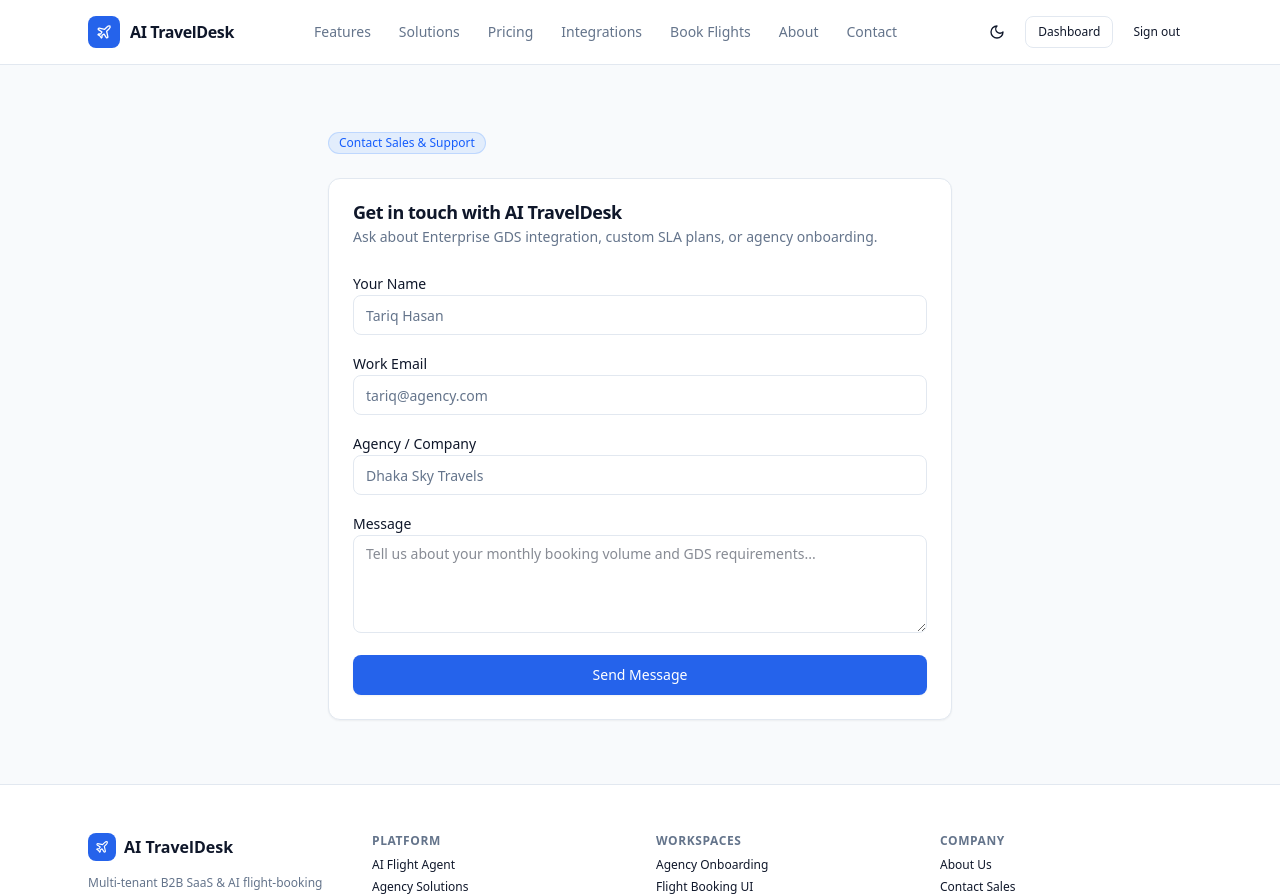
Test: Phase 3 Frontend Experience › validates contact form inputs
Click the button "Send Message".
click(640, 675)  # box [353,655,927,695]
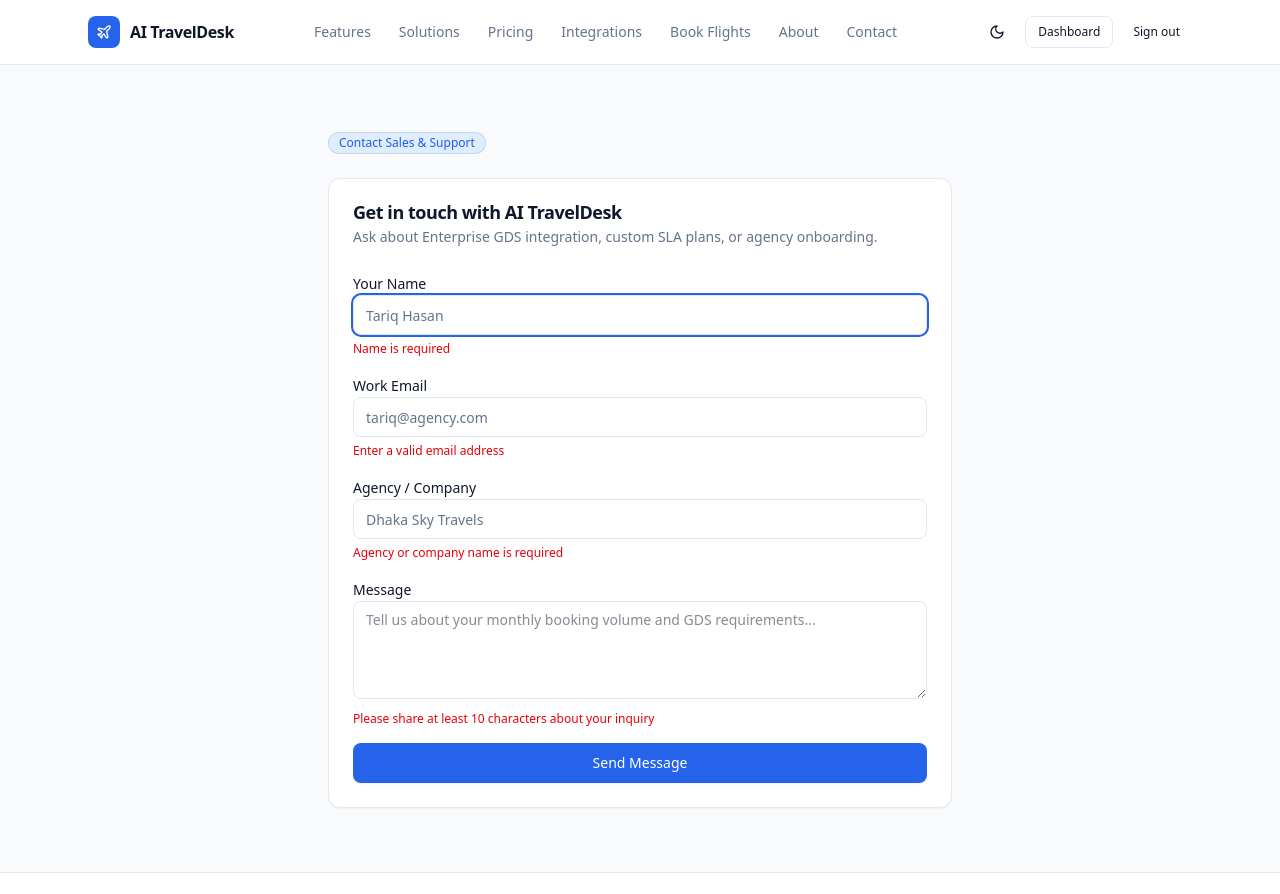
Now the text "Name is required" is shown, box [353,340,450,357]
Now the text "Enter a valid email address" is shown, box [353,442,504,459]
